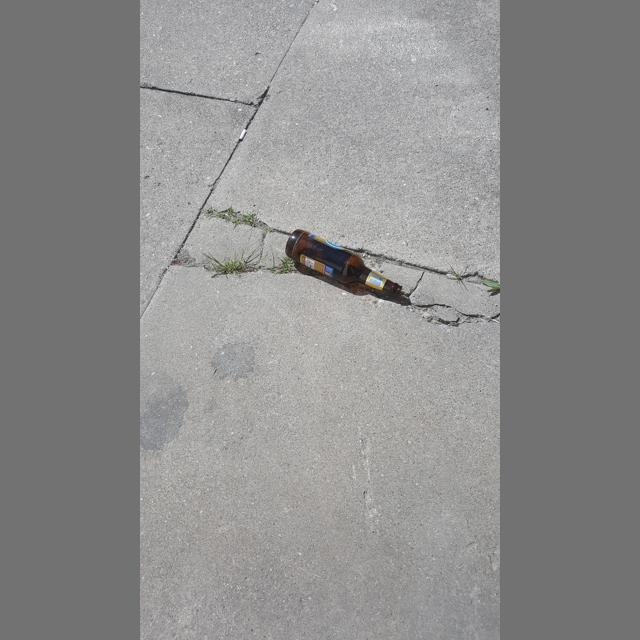litter: (285, 229, 403, 297), (239, 129, 247, 141)
